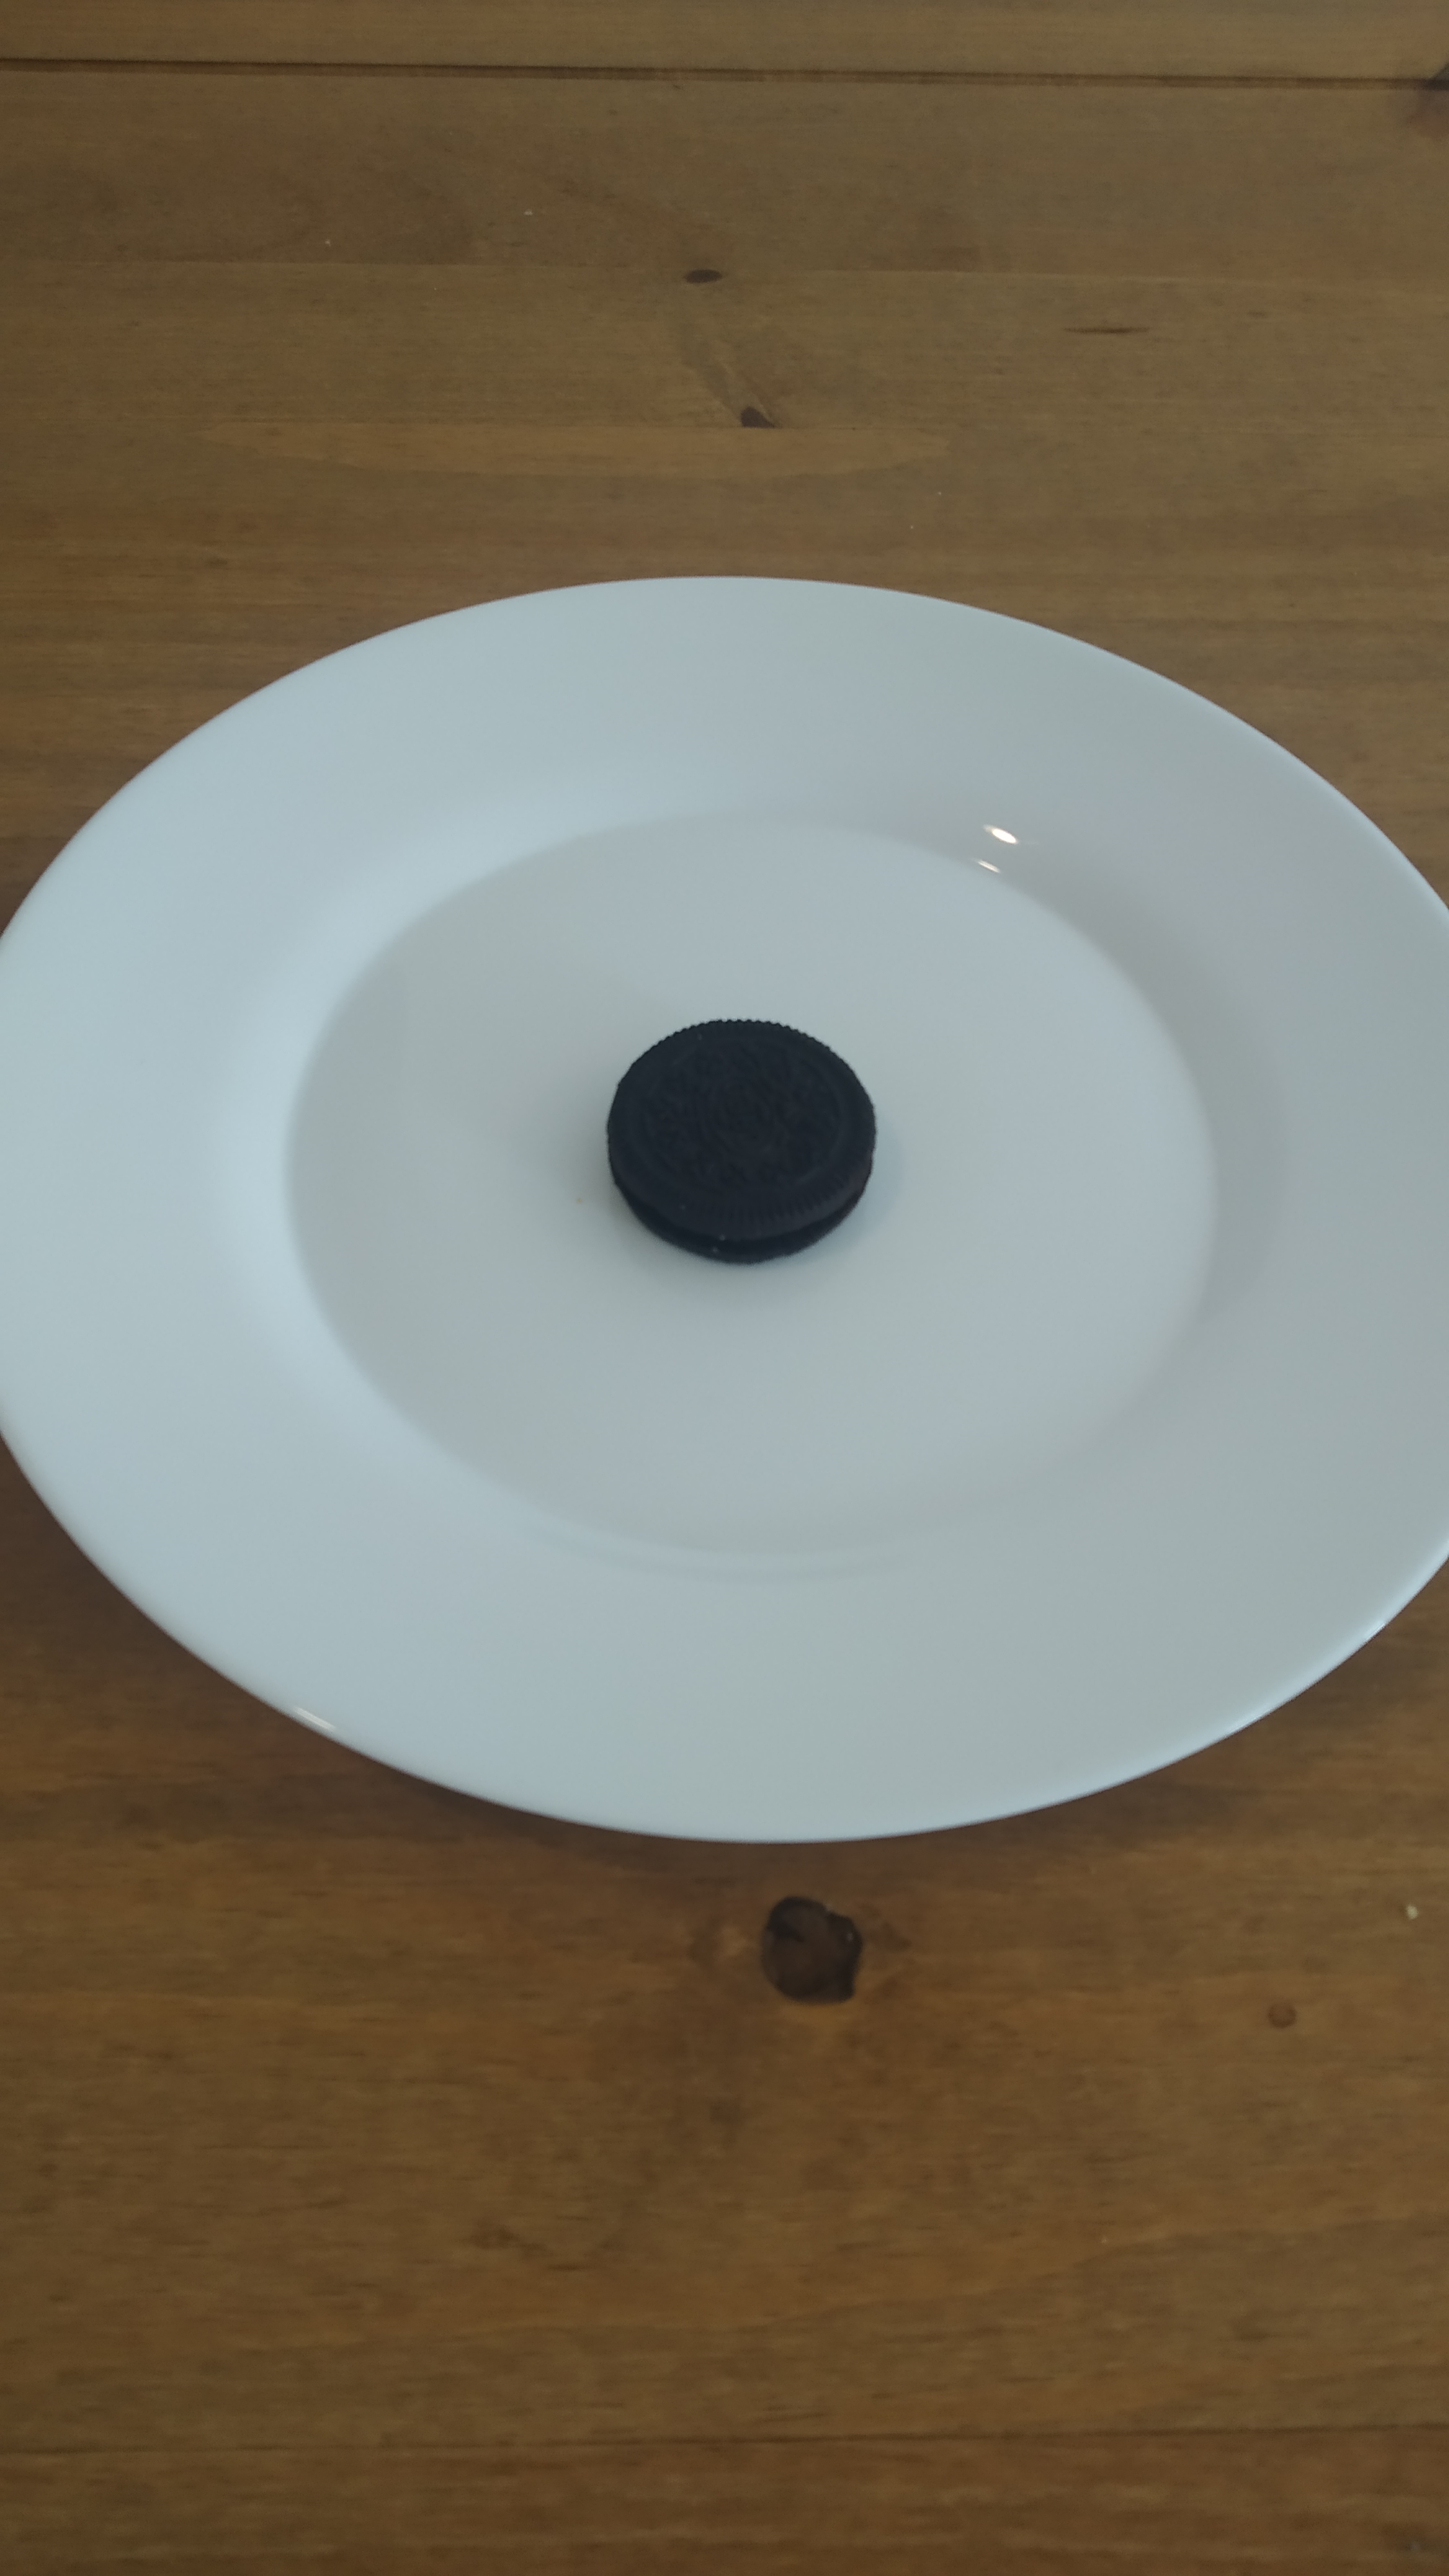oreo: (607, 1019, 878, 1263)
